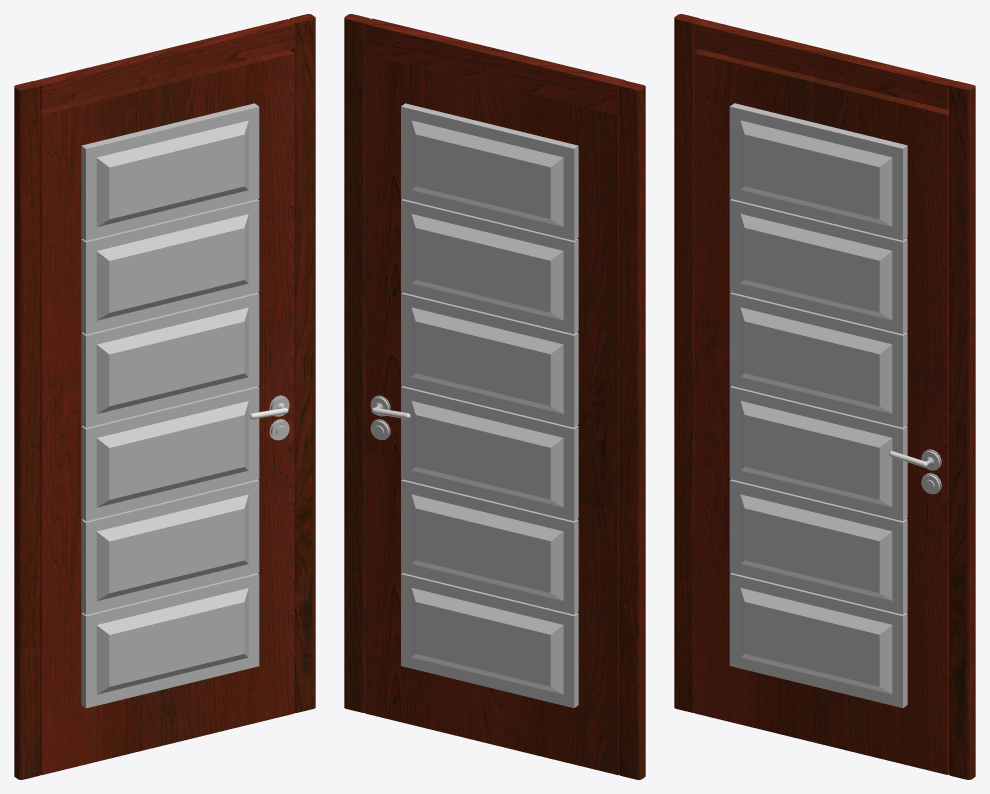
The model's file is Door.FBX.
3 views of the same model, side by side, from view 1: azimuth 30°, elevation 25°; view 2: azimuth 150°, elevation 25°; view 3: azimuth 330°, elevation 25° (orthographic).
Parts seen in each view (by area): view 1: Box002, Plane002, Rectangle001; view 2: Box003, Plane002, Rectangle001; view 3: Box002, Plane002, Rectangle001.
Part boxes in pixels (x1=…): Box002: x1=81, y1=103, x2=259, y2=708; Plane002: x1=40, y1=49, x2=294, y2=775; Rectangle001: x1=14, y1=14, x2=315, y2=779; Box003: x1=401, y1=103, x2=578, y2=707; Plane002: x1=365, y1=53, x2=619, y2=775; Rectangle001: x1=344, y1=14, x2=645, y2=779; Box002: x1=729, y1=103, x2=907, y2=707; Plane002: x1=694, y1=49, x2=948, y2=774; Rectangle001: x1=674, y1=14, x2=975, y2=779.
Bounding box in the file's own units: 58.5 × 130 × 8.38.
